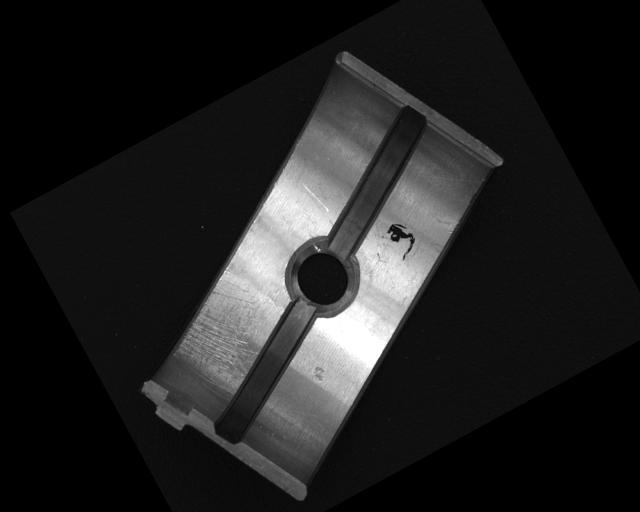blot: (381, 214, 424, 263)
bruise: (307, 363, 331, 386)
gap: (290, 99, 468, 258), (181, 298, 350, 448)
hole: (274, 227, 373, 327)
nick: (300, 176, 328, 217)
scratch: (153, 266, 293, 405)
